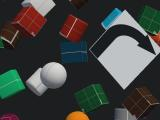Right: (89, 10, 160, 90)
